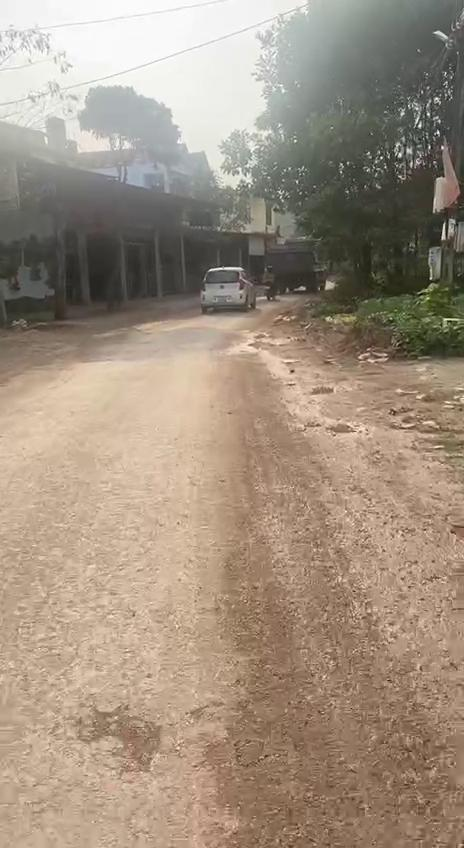pothole: (67, 704, 178, 778)
